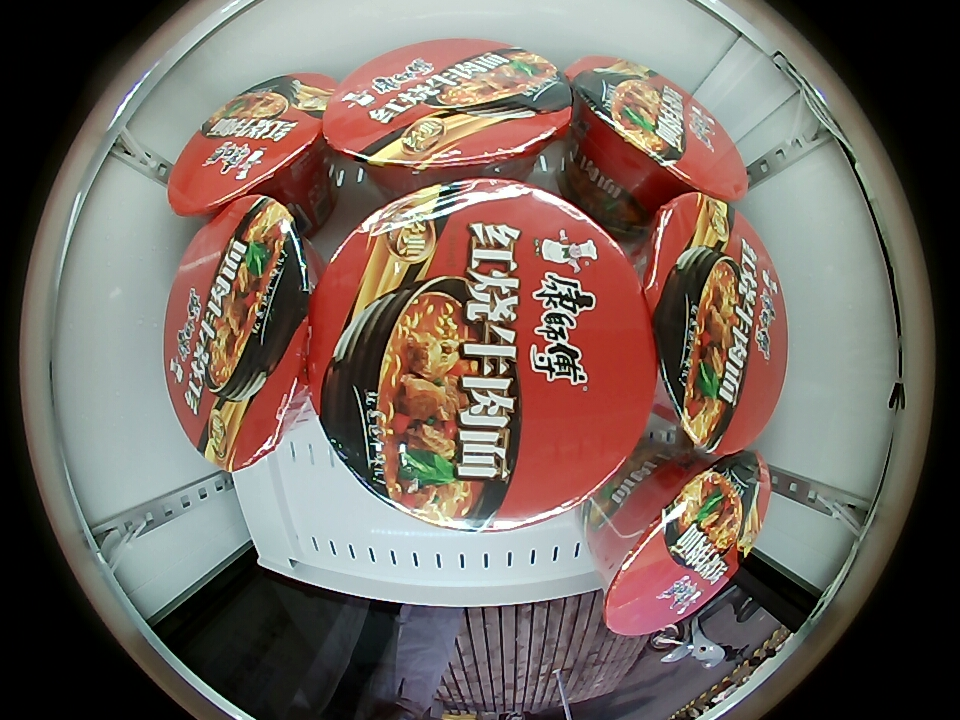hongshaoniurou: (305, 179, 657, 534), (165, 197, 314, 469), (640, 193, 787, 457), (322, 40, 574, 183), (599, 452, 774, 637), (568, 55, 747, 205), (168, 74, 336, 215)
